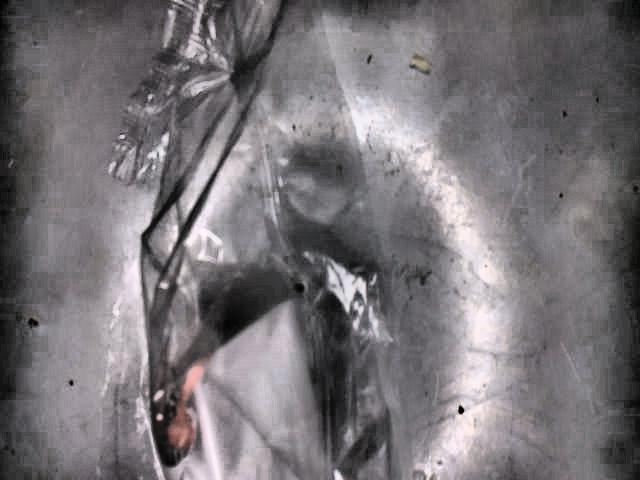Plastic: (95, 0, 408, 480)
